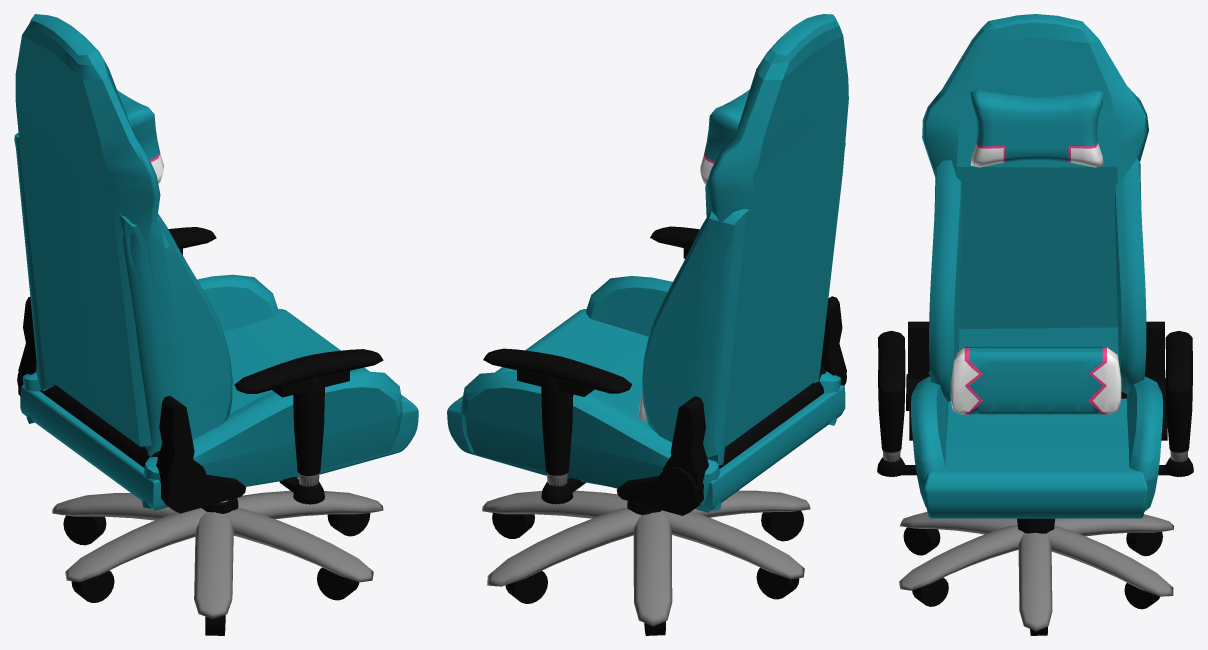
Rendered from chair.obj.
3 views of the same model, side by side, from view 1: azimuth 30°, elevation 25°; view 2: azimuth 150°, elevation 25°; view 3: azimuth 270°, elevation 25° (orthographic). The views are drawn at different scales.
Visible parts, largest first — view 1: Object_13_Mesh_10, Object_10_Mesh_7, Object_12_Mesh_9, Object_8_Mesh_5, Object_3_Mesh_0; view 2: Object_13_Mesh_10, Object_12_Mesh_9, Object_10_Mesh_7, Object_8_Mesh_5, Object_3_Mesh_0; view 3: Object_13_Mesh_10, Object_7_Mesh_4, Object_12_Mesh_9, Object_10_Mesh_7, Object_8_Mesh_5, Object_3_Mesh_0, Object_9_Mesh_6, Object_5_Mesh_2, Object_4_Mesh_1.
Part boxes in pixels (box(x1,y1,x2,y2)): Object_13_Mesh_10: box(14, 14, 418, 510); Object_10_Mesh_7: box(52, 490, 383, 582); Object_12_Mesh_9: box(18, 227, 383, 602); Object_8_Mesh_5: box(17, 297, 370, 635); Object_3_Mesh_0: box(194, 511, 233, 618); Object_13_Mesh_10: box(447, 14, 848, 512); Object_12_Mesh_9: box(483, 226, 846, 599); Object_10_Mesh_7: box(482, 490, 804, 626); Object_8_Mesh_5: box(492, 366, 846, 635); Object_3_Mesh_0: box(487, 490, 810, 586); Object_13_Mesh_10: box(911, 14, 1162, 518); Object_7_Mesh_4: box(956, 166, 1118, 329); Object_12_Mesh_9: box(877, 321, 1193, 476); Object_10_Mesh_7: box(899, 514, 1173, 631); Object_8_Mesh_5: box(903, 321, 1165, 635); Object_3_Mesh_0: box(900, 512, 1173, 596); Object_9_Mesh_6: box(950, 347, 1121, 414); Object_5_Mesh_2: box(970, 144, 1103, 167); Object_4_Mesh_1: box(963, 347, 1108, 414).
Size of the model in its own units: 4.52 by 7.58 by 4.34.
